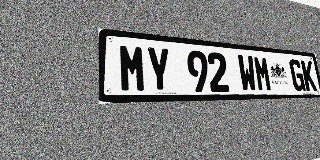2: (207, 52, 229, 92)
9: (186, 50, 210, 92)
G: (288, 59, 306, 91)
K: (301, 60, 317, 91)
M: (118, 44, 147, 92), (253, 56, 272, 91)
W: (237, 54, 257, 92)
Y: (145, 46, 172, 92)
